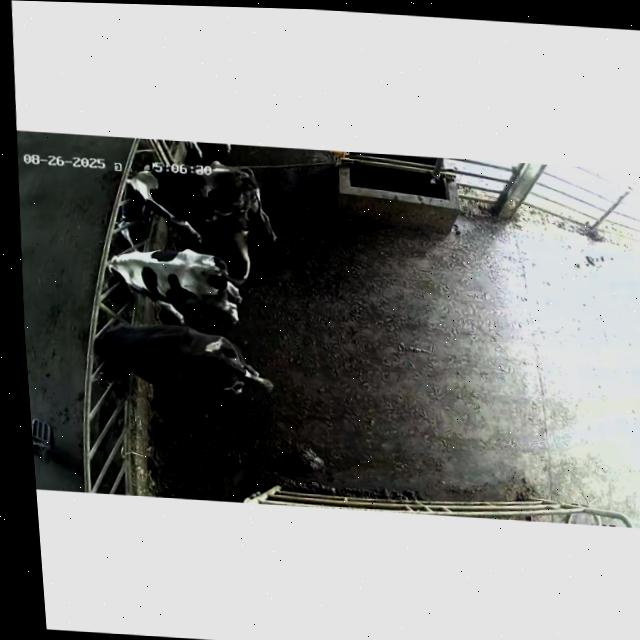eat: (80, 156, 185, 243), (65, 313, 156, 374), (69, 242, 168, 296)
